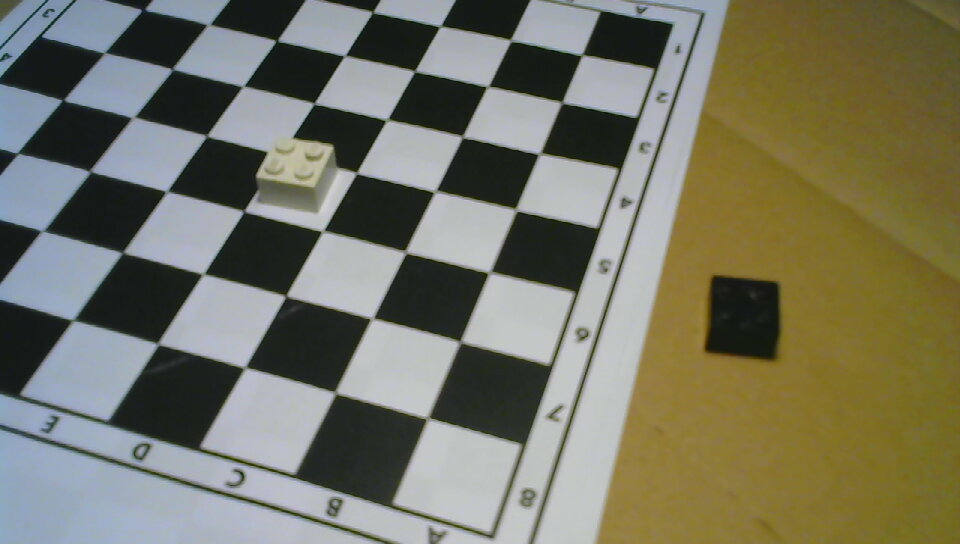bp: (702, 273, 783, 362)
wp: (257, 136, 337, 213)
